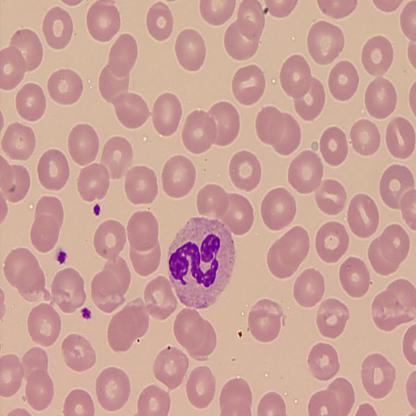Segmented neutrophil: (164, 214, 238, 309)
